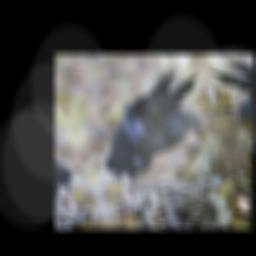Crow: (75, 67, 236, 189)
